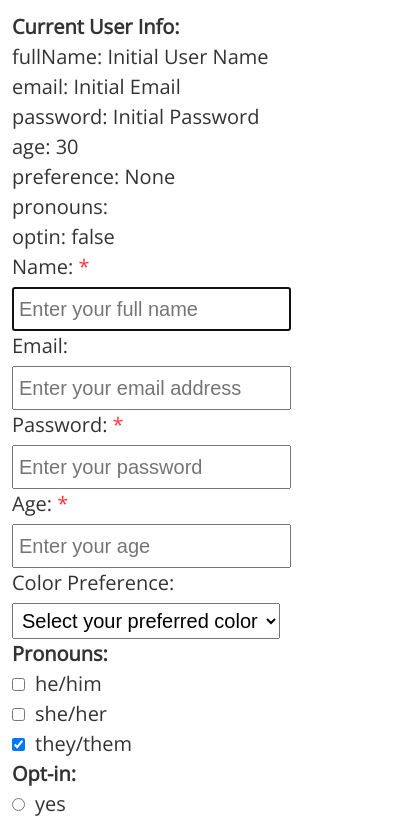
Test: form tests › shows error when password field is too short
Step 1. Type "1234567" into the password field with placeholder "Enter your password" → (152, 467), box [12,445,291,489]
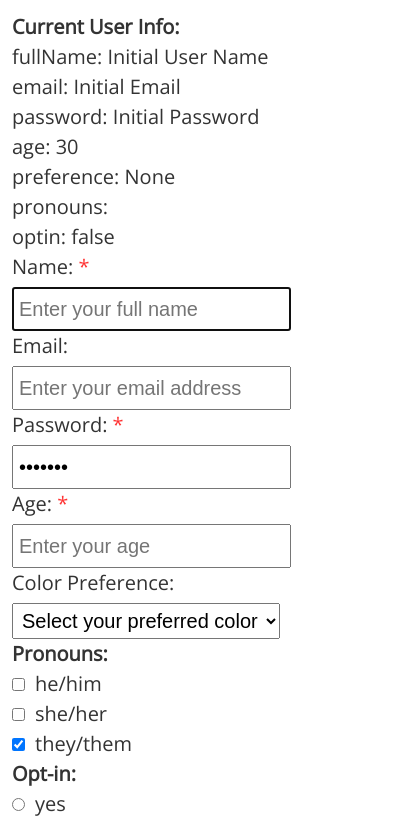
Step 2. Leave the password field with placeholder "Enter your password", box [12,445,291,489]
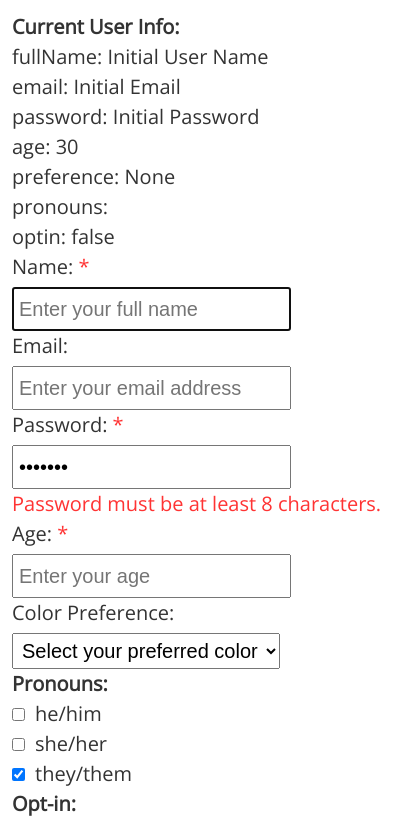
Result: the text "Password must be at least 8 characters." is shown at [12,490,381,517]
